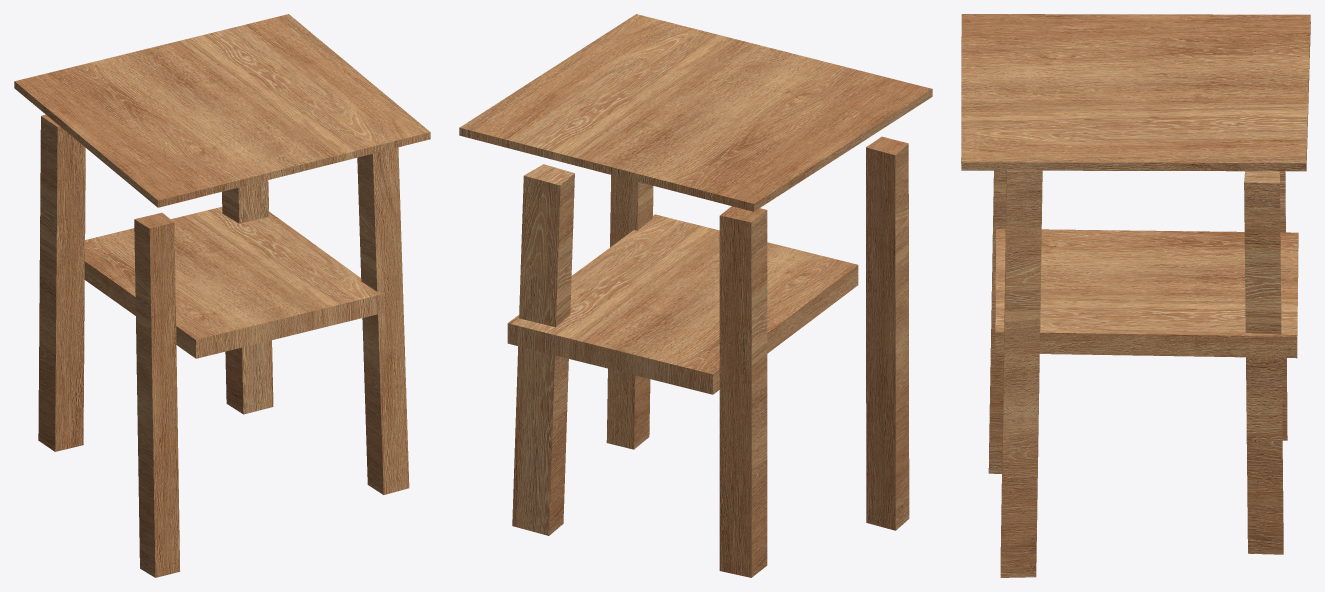
Rendered from 27248_ours.glb.
3 views of the same model, side by side, from view 1: azimuth 30°, elevation 25°; view 2: azimuth 150°, elevation 25°; view 3: azimuth 270°, elevation 25° (orthographic). The views are drawn at different scales.
Parts seen in each view (by area): view 1: ParentEmpty; view 2: ParentEmpty; view 3: ParentEmpty.
Part boxes in pixels (x1,y1,x2,y2): ParentEmpty: (14, 14, 430, 577); ParentEmpty: (459, 14, 932, 577); ParentEmpty: (961, 14, 1310, 577).
Size of the model in its own units: 0.7484 by 1 by 0.706.
1 material, 1 textured.
